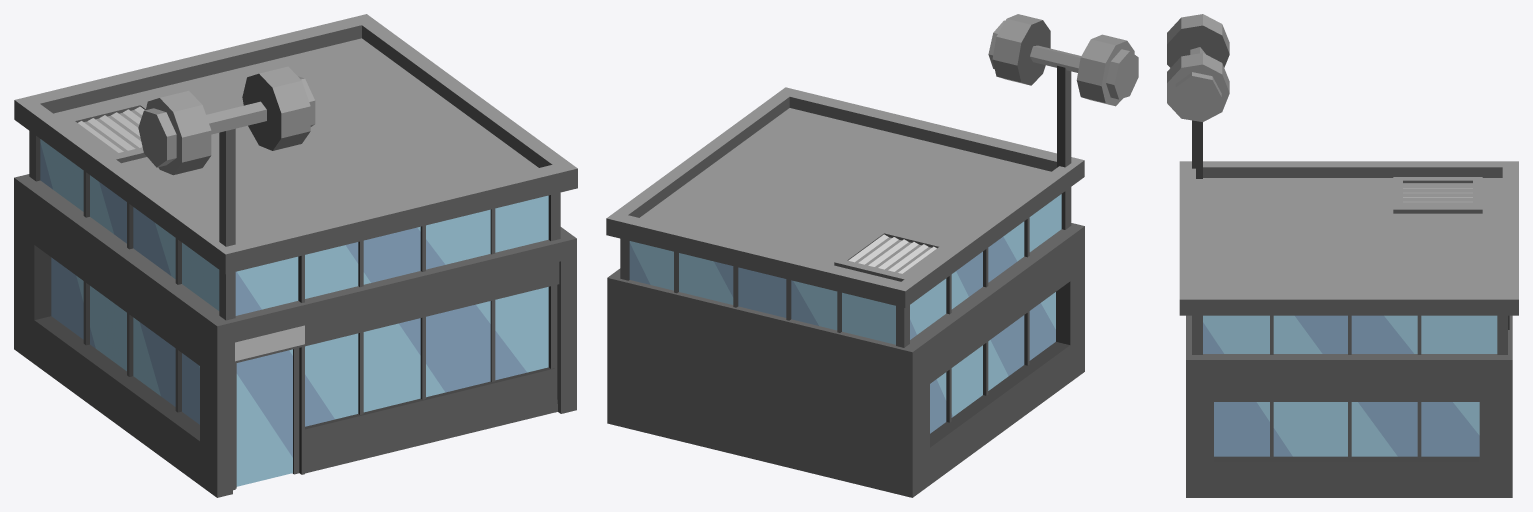
File: services_store_005.glb
3 views of the same model, side by side, from view 1: azimuth 30°, elevation 25°; view 2: azimuth 150°, elevation 25°; view 3: azimuth 270°, elevation 25° (orthographic). The views are drawn at different scales.
Visible parts, largest first — view 1: services_store_005; view 2: services_store_005; view 3: services_store_005.
Part boxes in pixels (x1,y1,x2,y2): services_store_005: [14, 14, 577, 497]; services_store_005: [606, 14, 1138, 497]; services_store_005: [1167, 14, 1518, 497].
Size of the model in its own units: 6.86 by 6.4 by 6.25.
1 material, 1 textured.
